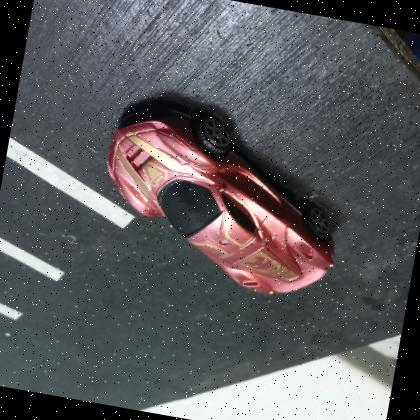Car: (87, 98, 358, 306)
